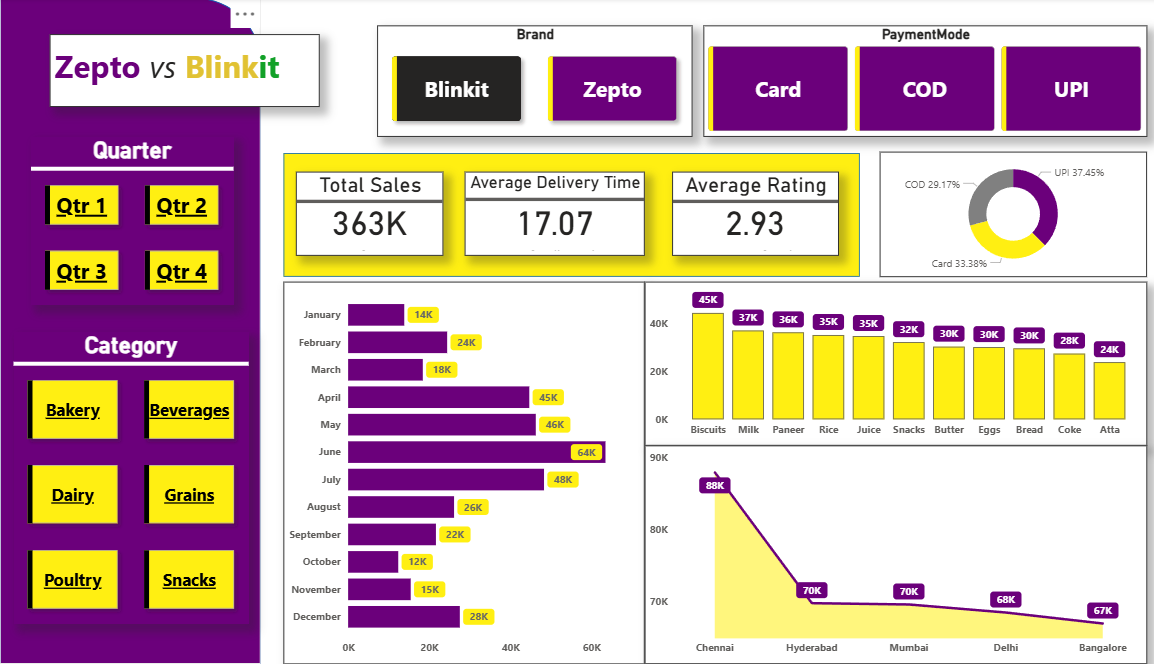

What the dashboard file says about the page in this screenshot:
{"tool":"powerbi","page":{"name":"Page 1","canvas":[1400,800],"ordinal":0},"visuals":[{"type":"shape","box":[10.5,0,313.7,800],"z":0},{"type":"textbox","box":[70.5,43,324.2,87.1],"z":2000},{"type":"advancedSlicerVisual","fields":{"Values":["Table2.Brand"]},"box":[463.8,33,378.2,133.6],"z":3000},{"type":"advancedSlicerVisual","fields":{"Values":["Table2.PaymentMode"]},"box":[855.5,33,532.8,133.6],"z":4000},{"type":"advancedSlicerVisual","title":" Quarter","fields":{"Values":["Table2.Date.Variation.Date Hierarchy.Quarter"]},"box":[48,166.6,243.1,202.6],"z":5000},{"type":"advancedSlicerVisual","title":" Category","fields":{"Values":["Table2.Category"]},"box":[27,400.7,282.2,351.2],"z":6000},{"type":"shape","box":[351.2,186.1,691.9,148.6],"z":7000},{"type":"card","title":"Total Sales","fields":{"Values":["Sum(Table2.Amount)"]},"box":[366.2,208.6,177.1,100.6],"z":8000},{"type":"card","title":"Average Delivery Time","fields":{"Values":["Avg(Table2.DeliveryTime(min))"]},"box":[568.8,208.6,216.1,100.6],"z":9000},{"type":"card","title":"Average Rating","fields":{"Values":["Avg(Table2.Rating)"]},"box":[818,208.6,199.6,100.6],"z":10000},{"type":"clusteredBarChart","fields":{"Category":["Table2.Date.Variation.Date Hierarchy.Month"],"Y":["Sum(Table2.Amount)"]},"box":[351.2,340.7,433.7,459.3],"z":11000},{"type":"columnChart","fields":{"Category":["Table2.Product"],"Y":["Sum(Table2.Amount)"]},"box":[785,340.7,603.3,196.6],"z":12000},{"type":"areaChart","fields":{"Category":["Table2.City"],"Y":["Sum(Table2.Amount)"]},"box":[785,538,603,262],"z":13000},{"type":"donutChart","fields":{"Category":["Table2.PaymentMode"],"Y":["Sum(Table2.Amount)"]},"box":[1067.1,184.6,321.2,150.1],"z":14000}]}

Visuals, with their boxes in screenshot pixels (x1, y1, x2, y2), scaled from the page's 1400x800 canvas onto the 1154x664 screenshot:
shape: box(9, 0, 267, 663)
textbox: box(58, 36, 325, 108)
advancedSlicerVisual - Table2.Brand: box(382, 27, 694, 138)
advancedSlicerVisual - Table2.PaymentMode: box(705, 27, 1144, 138)
" Quarter" advancedSlicerVisual: box(40, 138, 240, 306)
" Category" advancedSlicerVisual: box(22, 333, 255, 624)
shape: box(289, 154, 860, 278)
"Total Sales" card: box(302, 173, 448, 257)
"Average Delivery Time" card: box(469, 173, 647, 257)
"Average Rating" card: box(674, 173, 839, 257)
clusteredBarChart - Table2.Date.Variation.Date Hierarchy.Month x Sum(Table2.Amount): box(289, 283, 647, 663)
columnChart - Table2.Product x Sum(Table2.Amount): box(647, 283, 1144, 446)
areaChart - Table2.City x Sum(Table2.Amount): box(647, 447, 1144, 663)
donutChart - Table2.PaymentMode x Sum(Table2.Amount): box(880, 153, 1144, 278)
